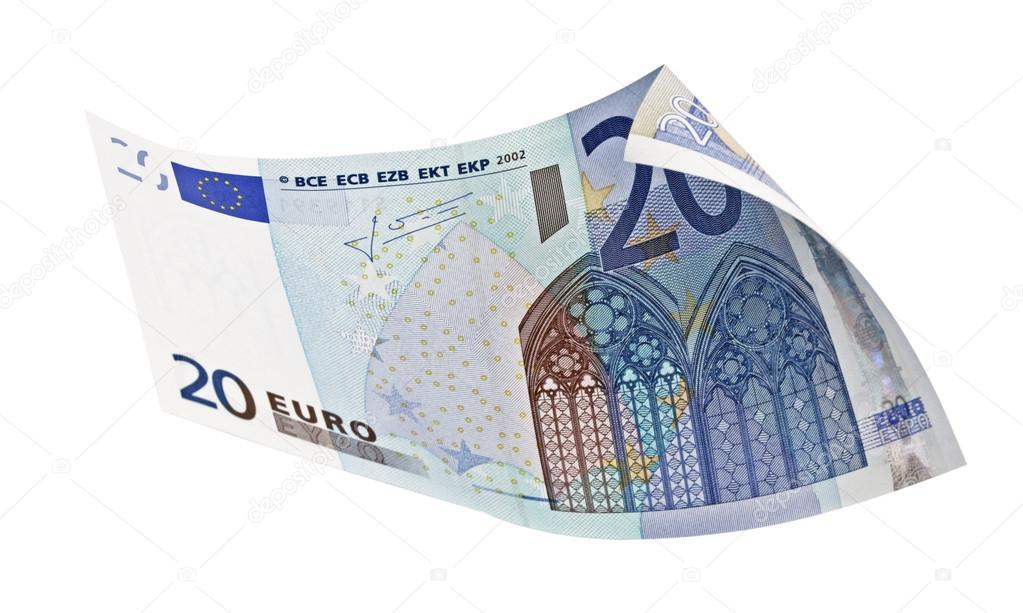billete: (83, 62, 971, 544)
